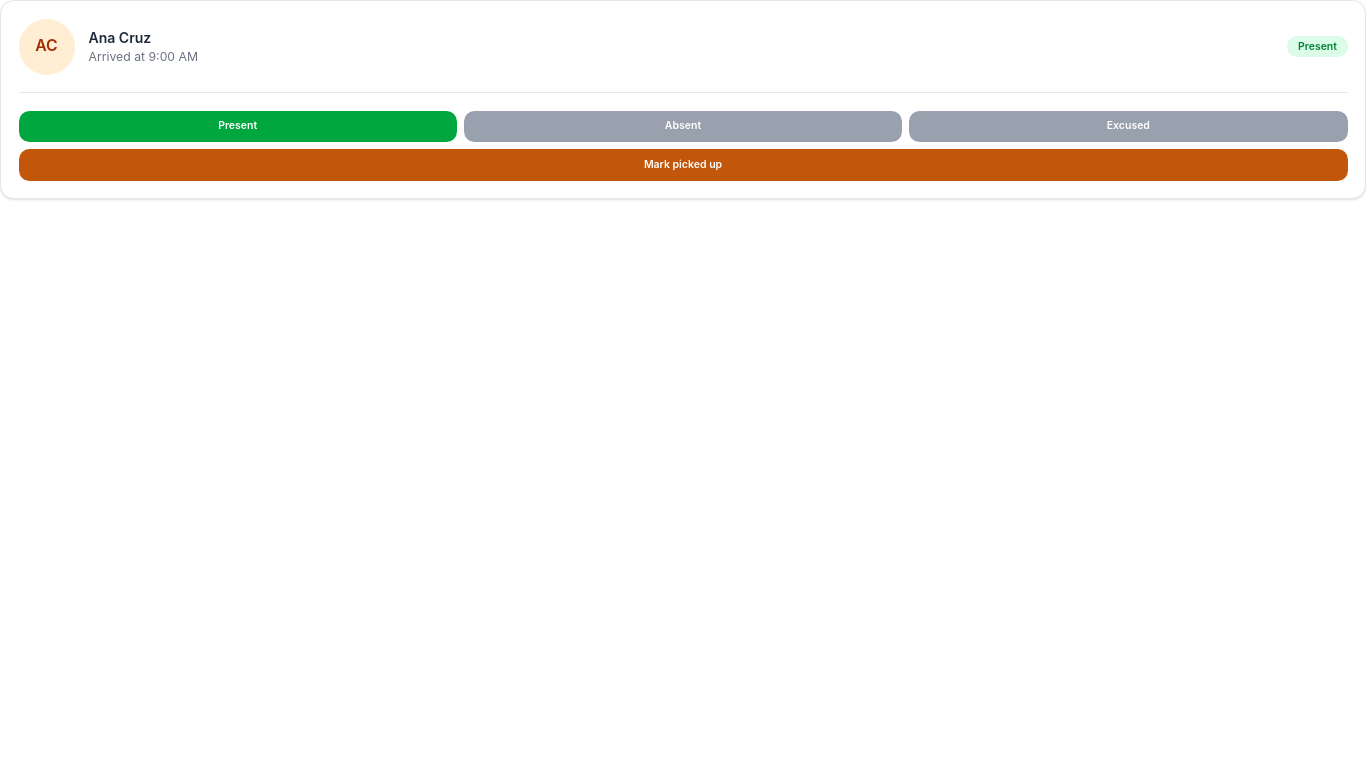
Scenario: AttendanceCard — Mark picked up › cancelling does nothing
Click the button with aria-label "mark ana cruz picked up" at coordinates (683, 165), box [18,149,1348,180]
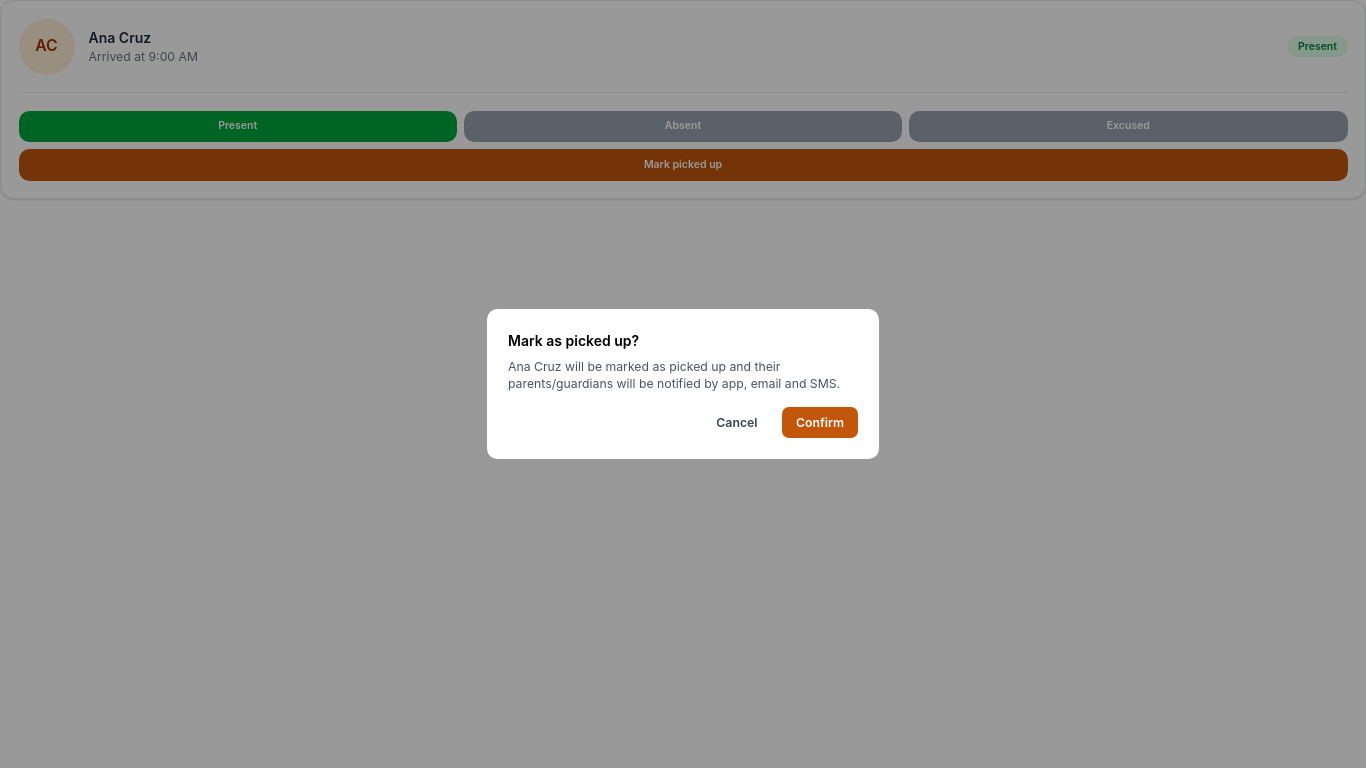
Click the button "Cancel" at coordinates (737, 423), box [702,407,771,438]
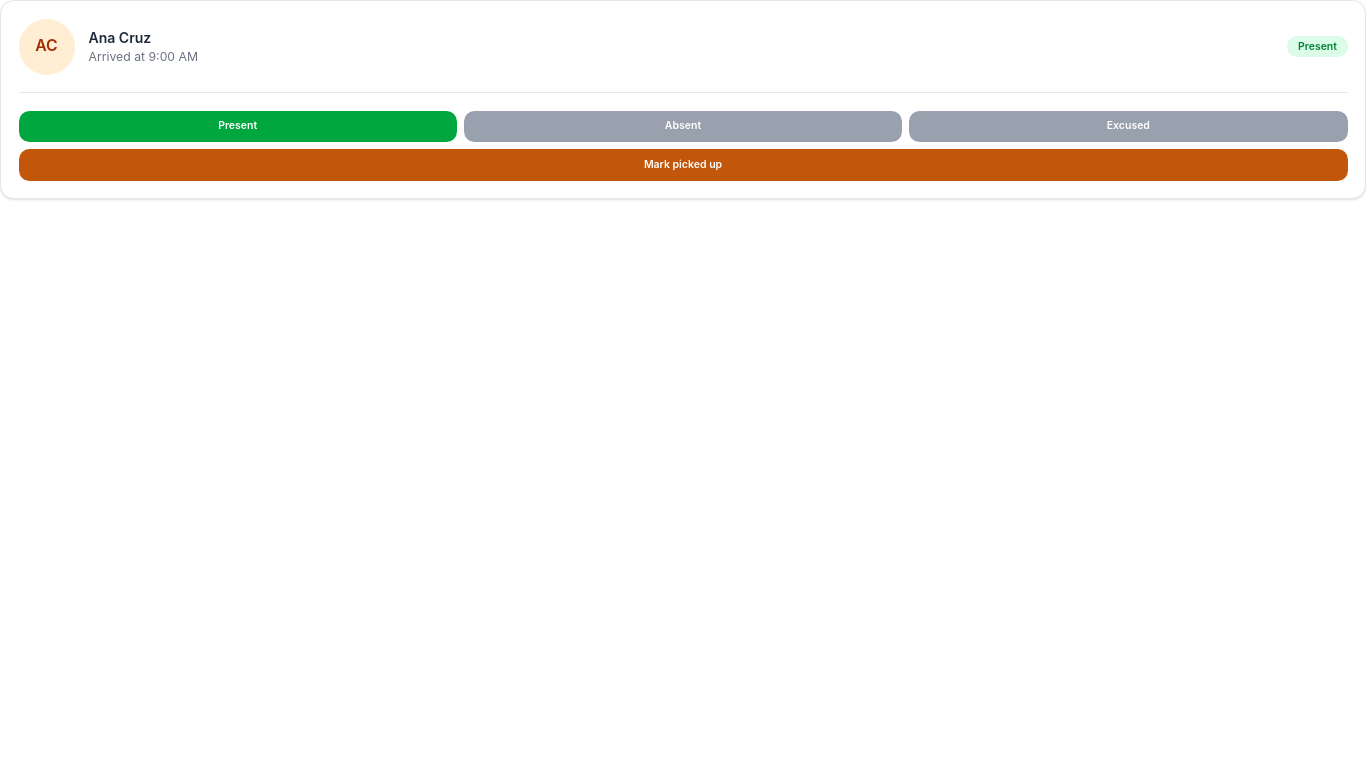
Check: the heading "Mark as picked up?" is gone
